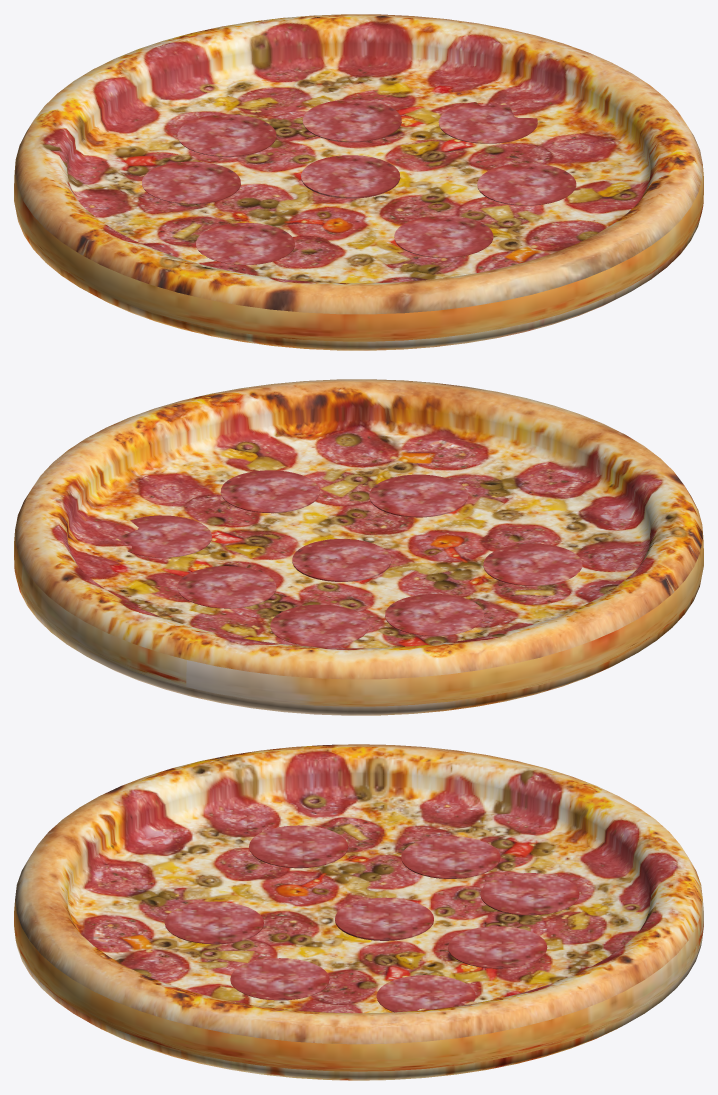
File: modelpizza.glb
3 views of the same model, one above another, from view 1: azimuth 30°, elevation 25°; view 2: azimuth 150°, elevation 25°; view 3: azimuth 270°, elevation 25° (orthographic).
Parts seen in each view (by area): view 1: Cylinder_0, Circle.004_5, Circle.002_3, Circle.001_2, Circle.007_8, Circle_1, Circle.005_6, Circle.003_4, Circle.006_7; view 2: Cylinder_0, Circle.004_5, Circle.005_6, Circle.001_2, Circle.003_4, Circle.002_3, Circle_1, Circle.007_8, Circle.006_7; view 3: Cylinder_0, Circle.004_5, Circle.003_4, Circle_1, Circle.005_6, Circle.007_8, Circle.002_3, Circle.001_2, Circle.006_7.
Part boxes in pixels (left/top/right/bottom): Cylinder_0: left=14, top=14, right=703, bottom=350; Circle.004_5: left=301, top=155, right=400, bottom=198; Circle.002_3: left=302, top=99, right=401, bottom=142; Circle.001_2: left=477, top=163, right=576, bottom=205; Circle.007_8: left=177, top=114, right=276, bottom=156; Circle_1: left=142, top=161, right=240, bottom=204; Circle.005_6: left=394, top=215, right=493, bottom=257; Circle.003_4: left=196, top=222, right=294, bottom=264; Circle.006_7: left=438, top=102, right=537, bottom=143; Cylinder_0: left=14, top=379, right=703, bottom=715; Circle.004_5: left=292, top=539, right=391, bottom=581; Circle.005_6: left=369, top=474, right=468, bottom=517; Circle.001_2: left=220, top=470, right=319, bottom=513; Circle.003_4: left=483, top=543, right=582, bottom=585; Circle.002_3: left=177, top=566, right=276, bottom=608; Circle_1: left=385, top=594, right=484, bottom=636; Circle.007_8: left=270, top=604, right=369, bottom=646; Circle.006_7: left=116, top=515, right=211, bottom=557; Cylinder_0: left=14, top=744, right=703, bottom=1080; Circle.004_5: left=335, top=897, right=433, bottom=940; Circle.003_4: left=249, top=825, right=348, bottom=868; Circle_1: left=401, top=836, right=500, bottom=878; Circle.005_6: left=164, top=901, right=263, bottom=944; Circle.007_8: left=480, top=873, right=579, bottom=915; Circle.002_3: left=448, top=926, right=547, bottom=968; Circle.001_2: left=230, top=958, right=329, bottom=1000; Circle.006_7: left=376, top=975, right=475, bottom=1012.
Size of the model in its own units: 2.15 by 0.2164 by 2.15.
Materials: 2 (2 with a texture image).
